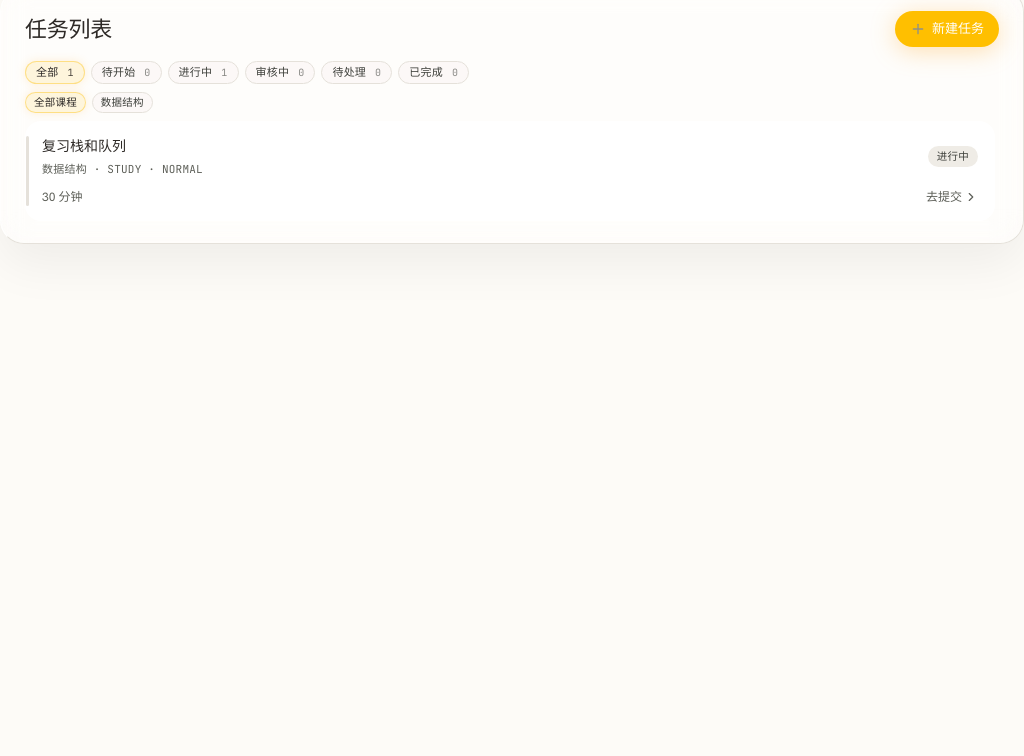
TasksPage › opens submission detail and renders adminComment
# 新流程：提交记录归入对应任务的详情页，点卡片进入后即可看到
Click the text "复习栈和队列" at (84, 146), box [42,137,126,155]
(page scrolled)
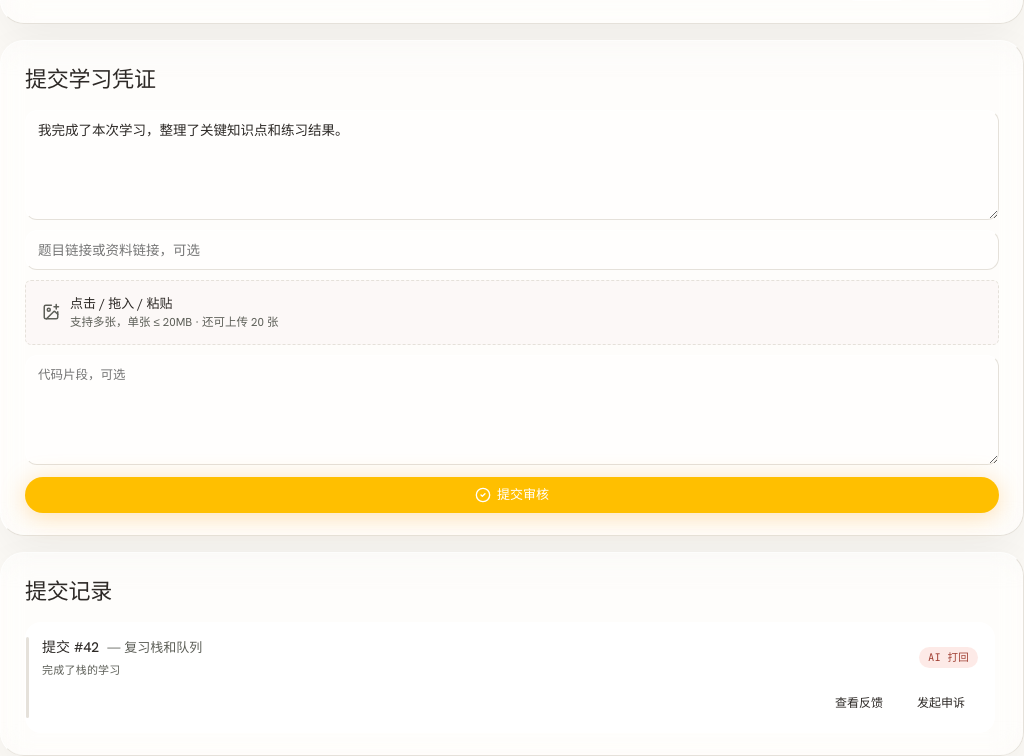
expect the text "提交 #42" is shown: met, box [42,638,202,656]
Click the button "查看反馈" at (859, 703), box [822,688,896,718]
(page scrolled)
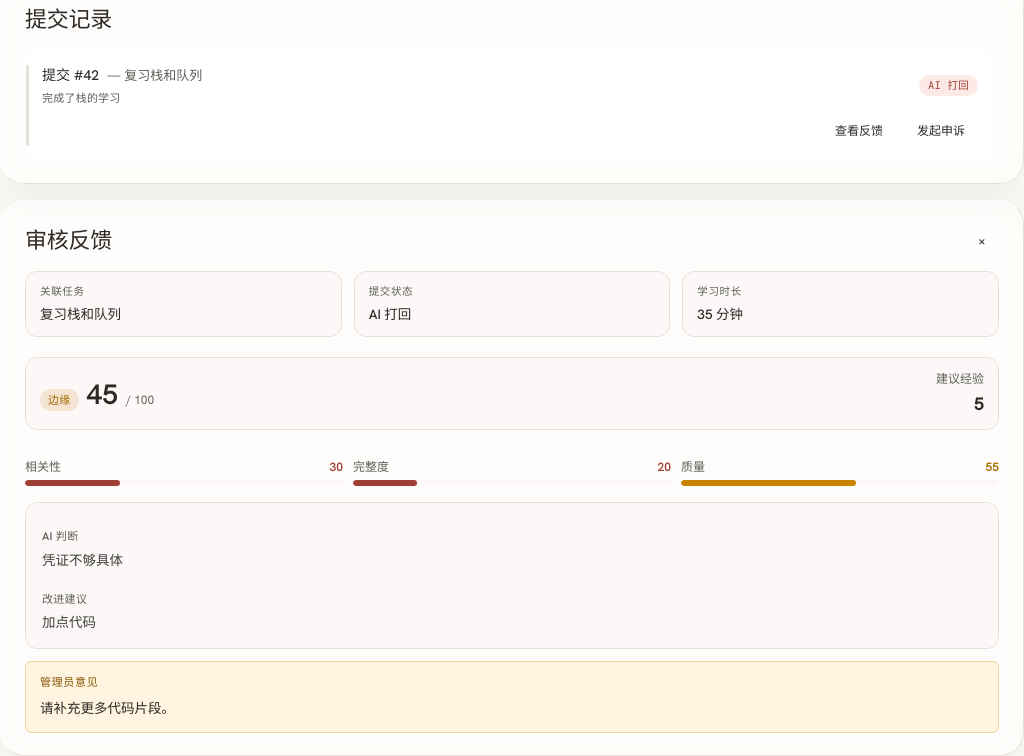
expect the text "请补充更多代码片段。" is shown: met, box [40,699,175,717]
expect the text "凭证不够具体" is shown: met, box [42,551,123,569]
